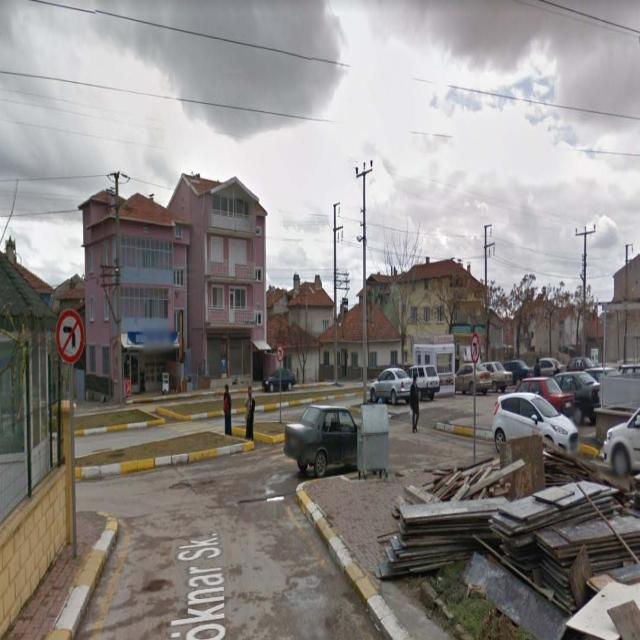soladonulmez: (56, 309, 84, 366), (471, 334, 480, 363), (276, 343, 283, 362)
